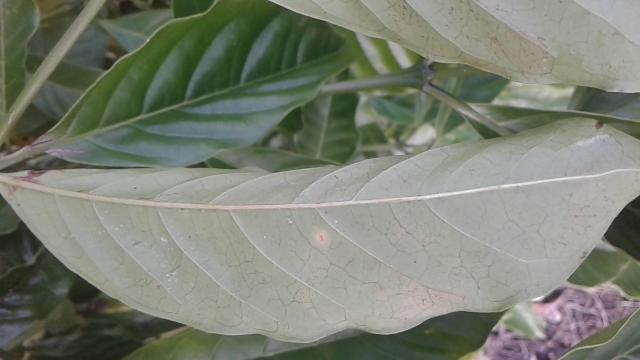rust_level_1: (0, 112, 640, 344)
